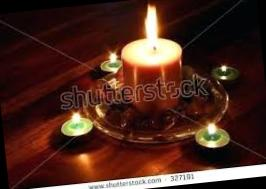Fire: (141, 0, 163, 53)
